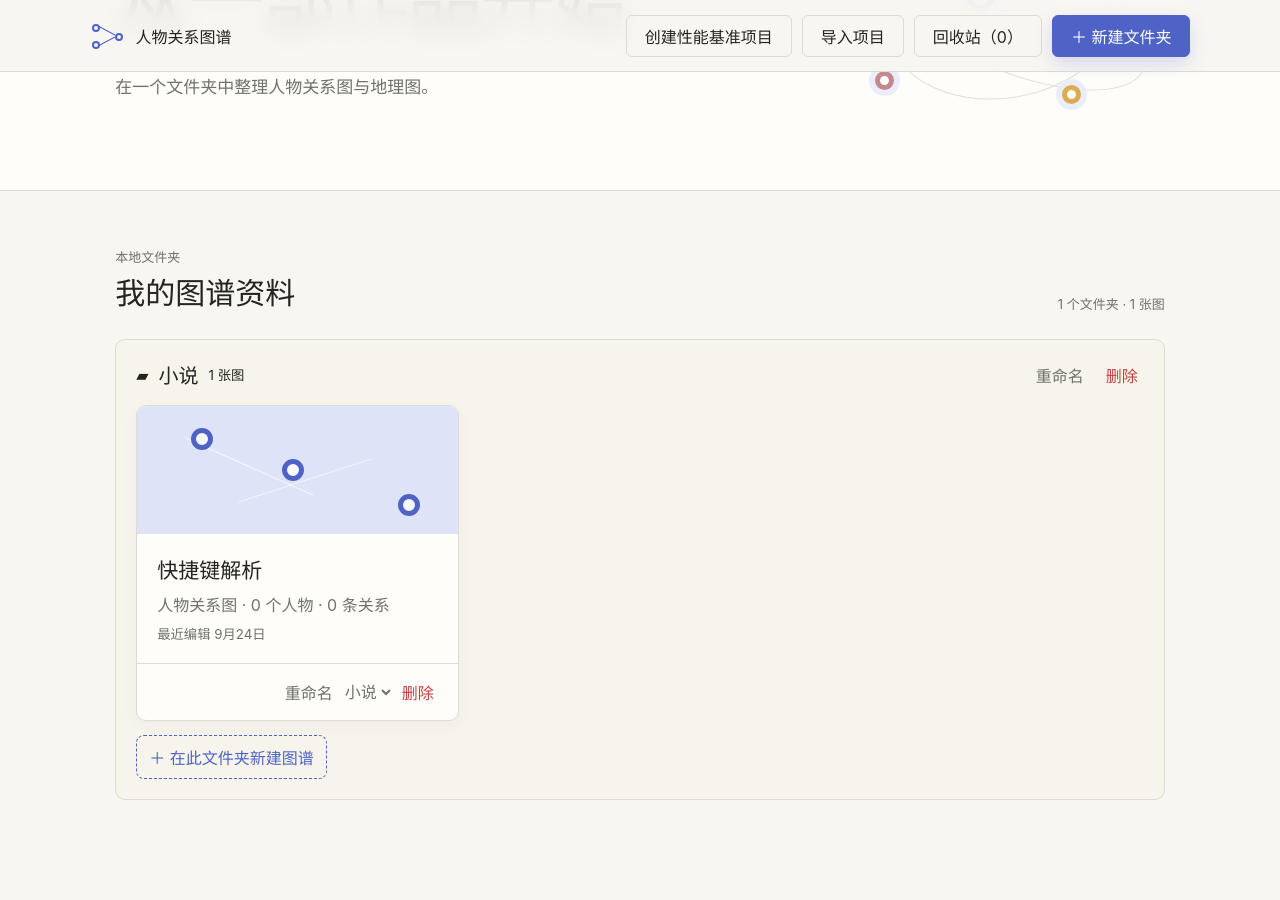
Test case: App project home › keeps an extension parse task received on the home page until a project opens
The width and height of the screenshot is (1280, 900).
(page scrolled)
Click the button "快捷键解析" at (297, 534), box x1=137 y1=406 x2=458 y2=663
(page scrolled)
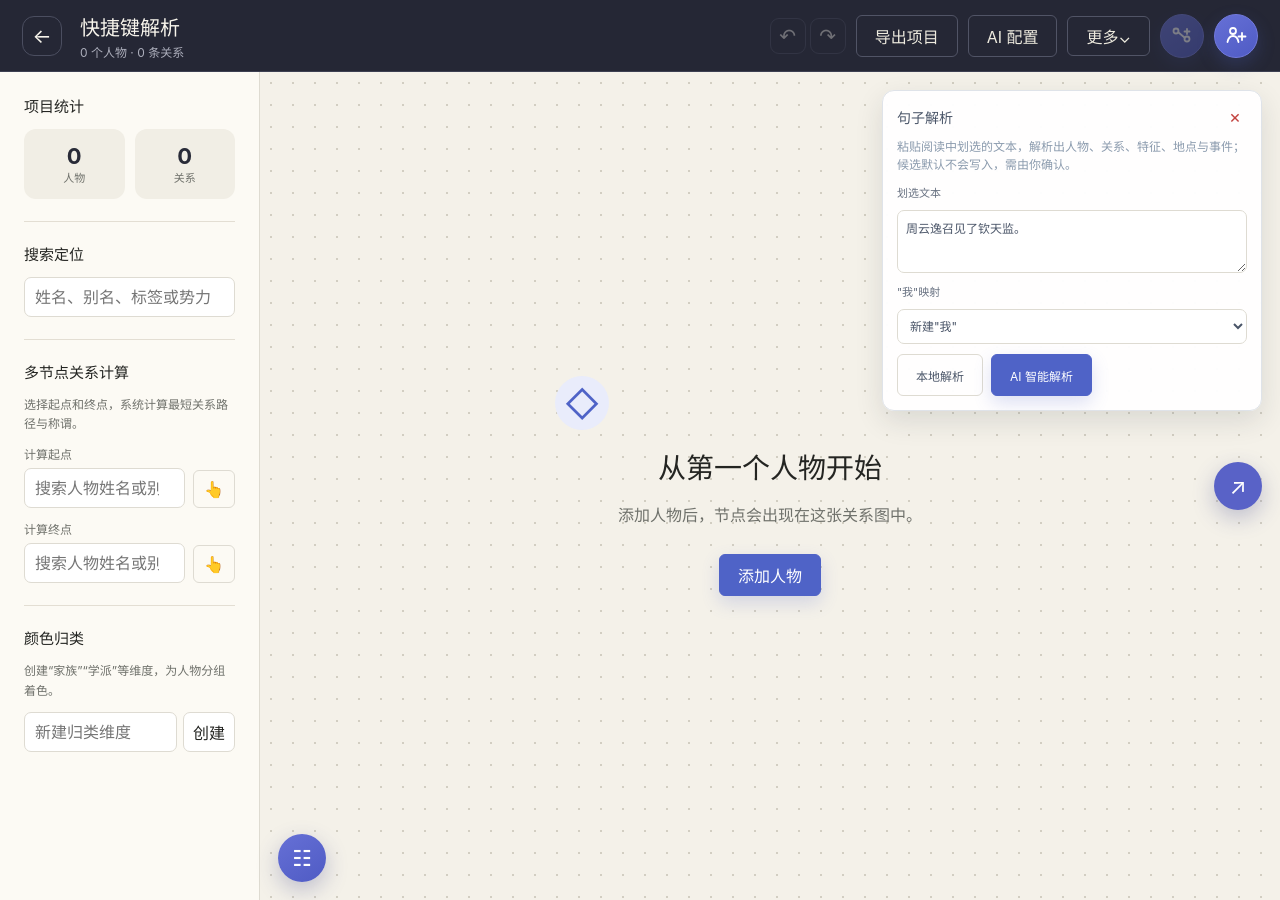
Now the text box labelled "划选文本" holds "周云逸召见了钦天监。", box x1=897 y1=210 x2=1247 y2=273
